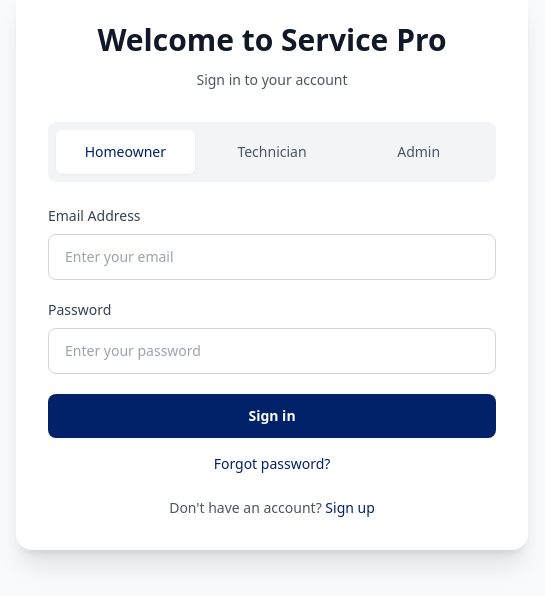
Login.jsx › validates invalid email format
The width and height of the screenshot is (545, 596).
Step 1. Type "invalid" into the field labelled "Email Address" → (272, 257), box [48,234,496,280]
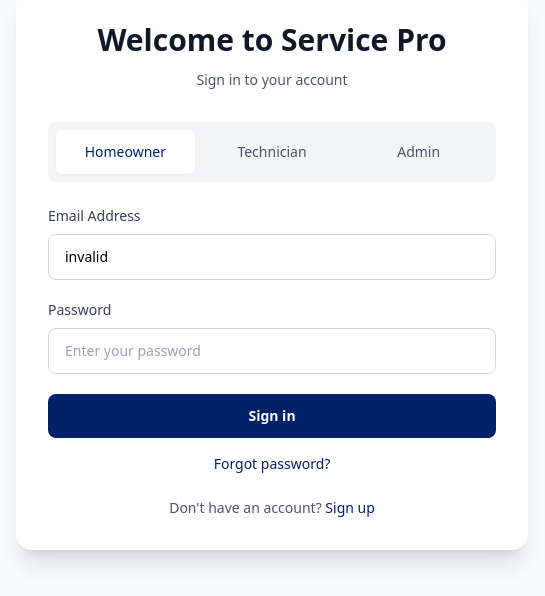
Step 2. Leave the field labelled "Email Address", box [48,234,496,280]
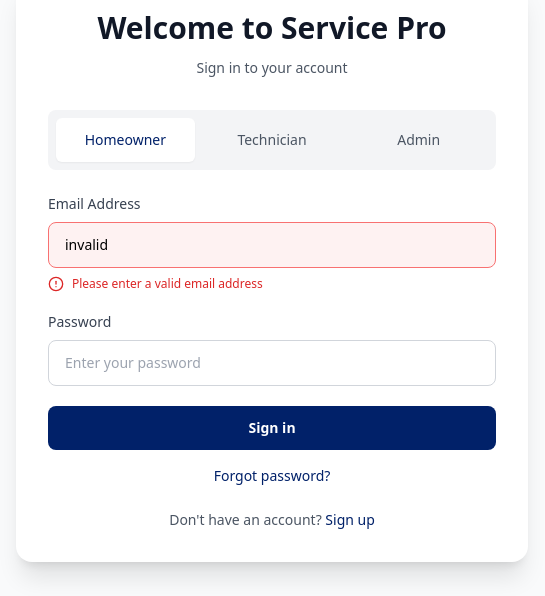
Expected: the text "Please enter a valid email address" is shown, [48,275,263,292]
